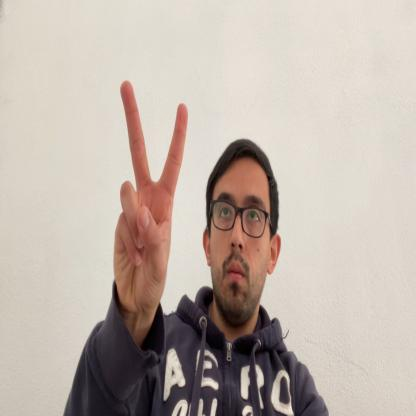V: (113, 79, 187, 310)
